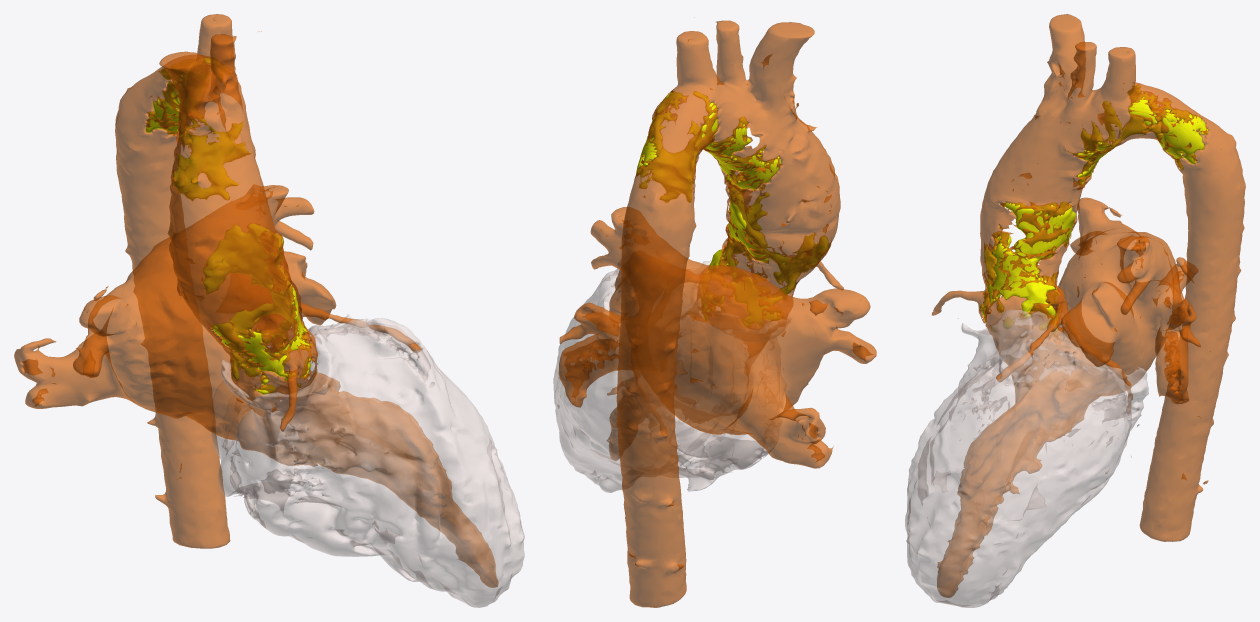
The model's file is AS + calcification.gltf.
3 views of the same model, side by side, from view 1: azimuth 30°, elevation 25°; view 2: azimuth 150°, elevation 25°; view 3: azimuth 270°, elevation 25° (orthographic). The views are drawn at different scales.
Visible parts, largest first — view 1: left ventricle of heart, muscle, calcification; view 2: left ventricle of heart, muscle, calcification; view 3: left ventricle of heart, muscle, calcification.
Boxes of the visible parts, x1=… form: left ventricle of heart: x1=14, y1=14, x2=498, y2=587; muscle: x1=211, y1=314, x2=524, y2=607; calcification: x1=145, y1=58, x2=311, y2=394; left ventricle of heart: x1=559, y1=17, x2=876, y2=607; muscle: x1=553, y1=260, x2=790, y2=492; calcification: x1=636, y1=88, x2=828, y2=326; left ventricle of heart: x1=931, y1=14, x2=1245, y2=597; muscle: x1=905, y1=309, x2=1148, y2=607; calcification: x1=980, y1=83, x2=1208, y2=330.
Size of the model in its own units: 100 by 144 by 91.61.
